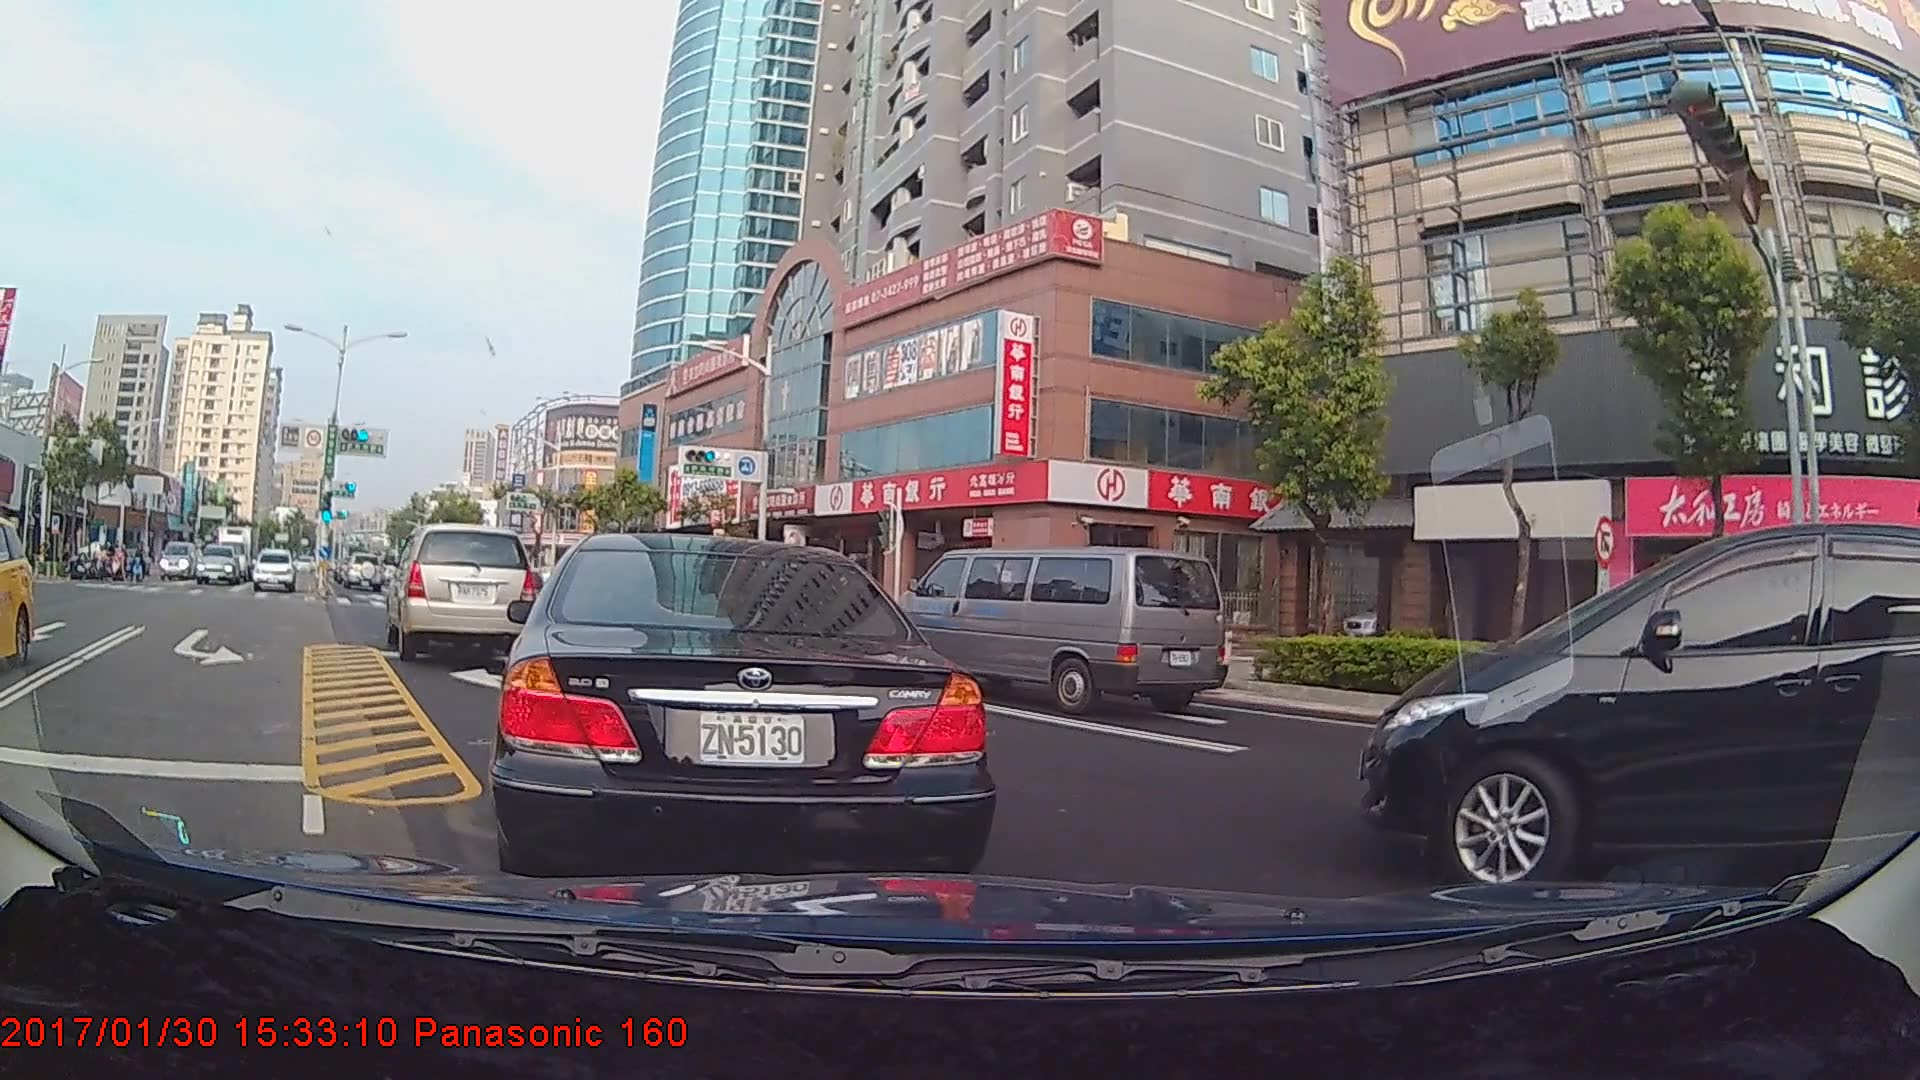vehicle: (1356, 504, 1902, 899), (498, 529, 988, 881), (894, 547, 1221, 721), (389, 526, 541, 661), (0, 521, 34, 667), (210, 521, 258, 566), (195, 543, 247, 585), (252, 547, 297, 593), (160, 541, 203, 582), (338, 551, 381, 591)
